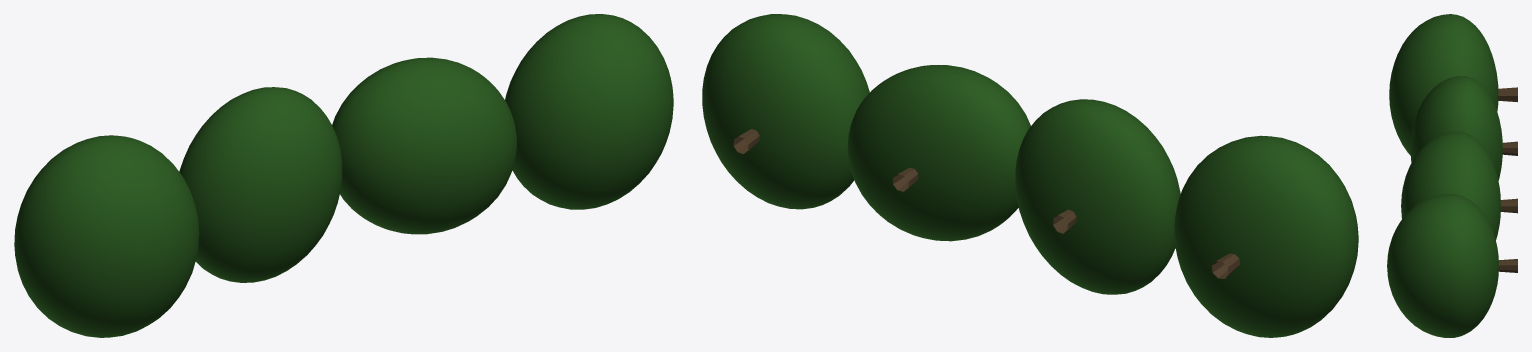
File: citrus_plain4_e.obj
3 views of the same model, side by side, from view 1: azimuth 30°, elevation 25°; view 2: azimuth 150°, elevation 25°; view 3: azimuth 270°, elevation 25° (orthographic). The views are drawn at different scales.
Visible parts, largest first — view 1: canopy; view 2: canopy, trunk; view 3: canopy, trunk.
Part boxes in pixels (bbox=[...]): canopy: bbox=[14, 14, 673, 337]; canopy: bbox=[702, 14, 1358, 337]; trunk: bbox=[733, 129, 1239, 278]; canopy: bbox=[1387, 14, 1502, 337]; trunk: bbox=[1498, 87, 1517, 272].
Size of the model in its own units: 12.04 by 3.5 by 2.81.
